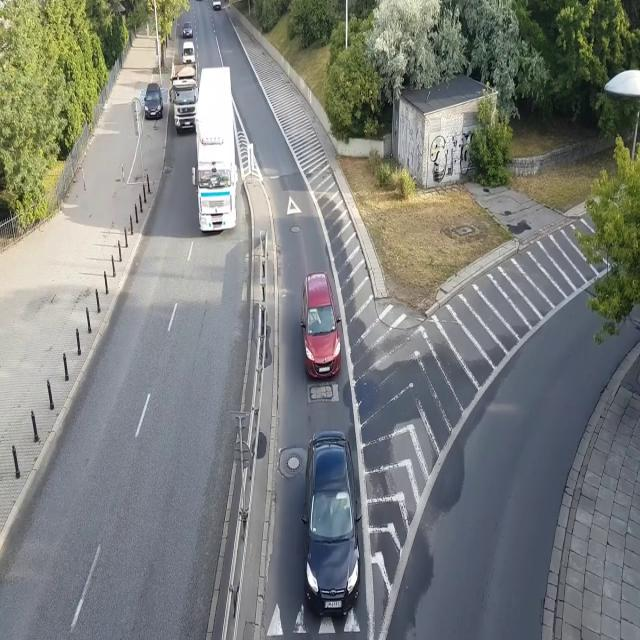car: (300, 432, 362, 614), (300, 272, 342, 382), (144, 82, 164, 122), (182, 22, 193, 38), (212, 0, 221, 10)
truck: (192, 65, 238, 231), (168, 61, 199, 135)
van: (181, 42, 195, 64)
